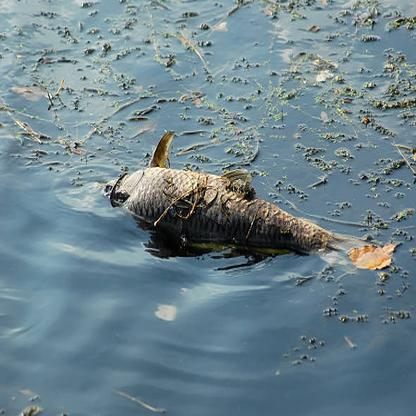deceased fish: (98, 131, 365, 267)
